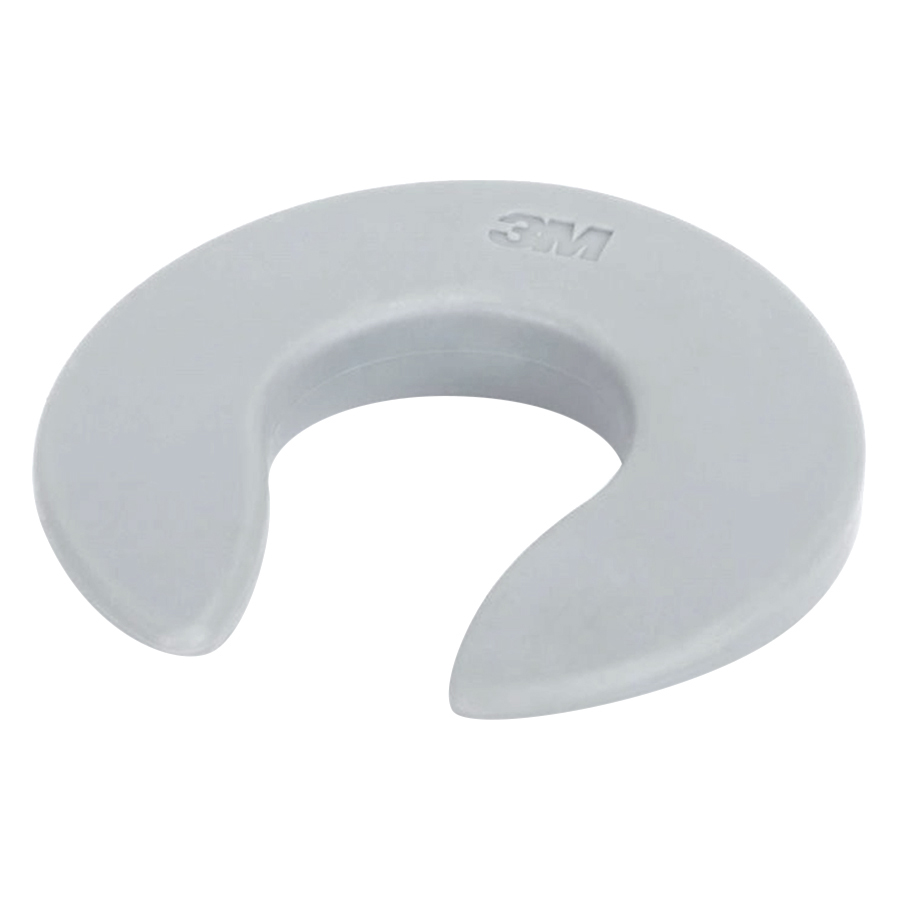3M: (486, 206, 617, 271)
